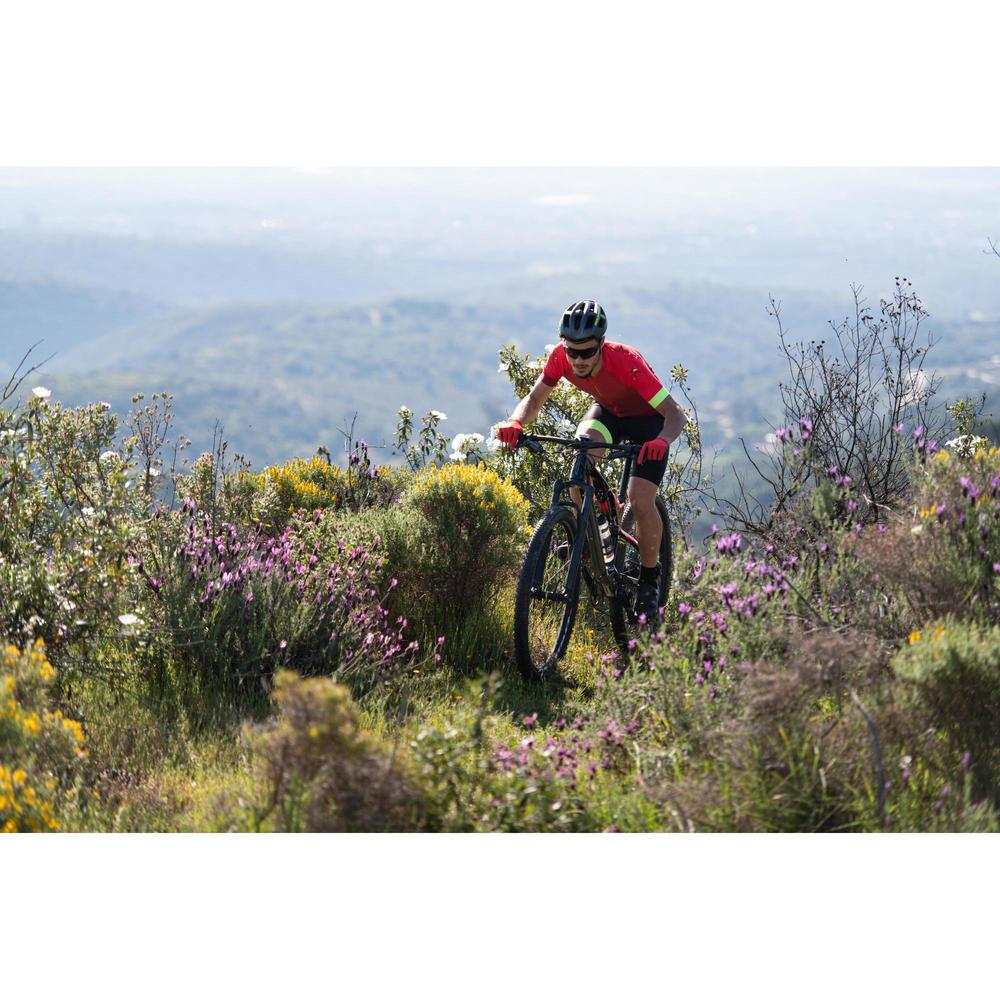MountainBike: (502, 416, 684, 686)
